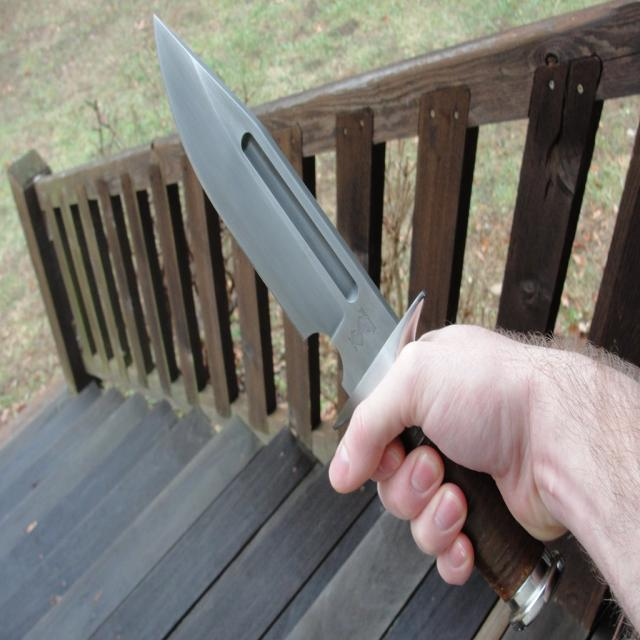knife: (149, 11, 572, 639)
